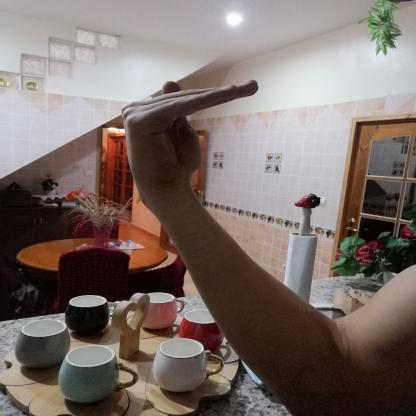KHAA: (105, 70, 276, 204)
